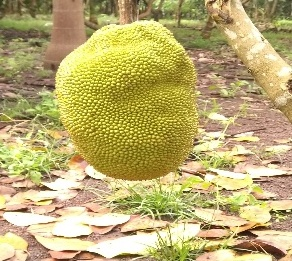Mit: (55, 23, 206, 179)
